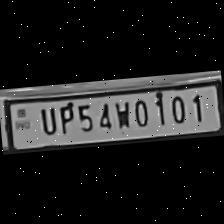0: (166, 90, 188, 124), (129, 95, 151, 128)
1: (186, 89, 208, 124), (150, 92, 168, 126)
4: (92, 97, 114, 130)
5: (72, 99, 94, 132)
P: (55, 100, 76, 134)
U: (35, 101, 58, 135)
W: (110, 96, 132, 130)
